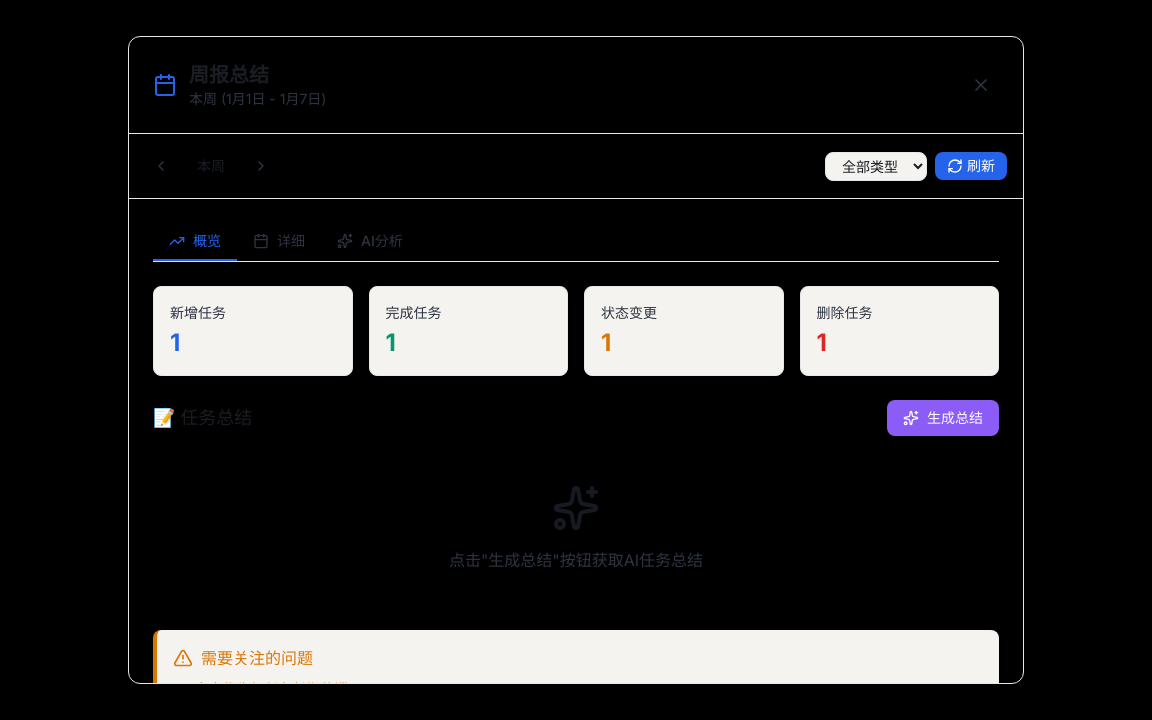
Test: WeeklyReport › should switch between tabs
expect the button "概览" is shown: met, box top-left (153, 223), bottom-right (237, 261)
Note: Click on details tab
Click the button "详细".
click(279, 242)  # box top-left (237, 223), bottom-right (321, 261)
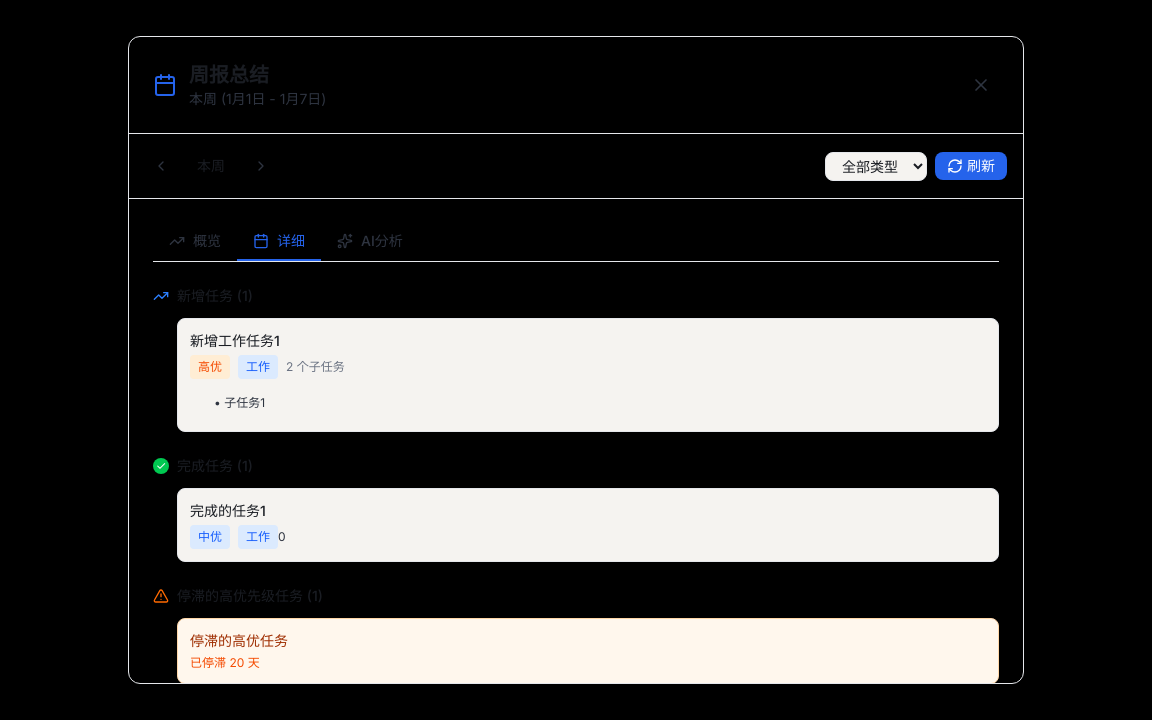
expect the text "新增工作任务1" is shown: met, box top-left (190, 332), bottom-right (280, 349)
expect the text "完成的任务1" is shown: met, box top-left (190, 502), bottom-right (266, 519)
